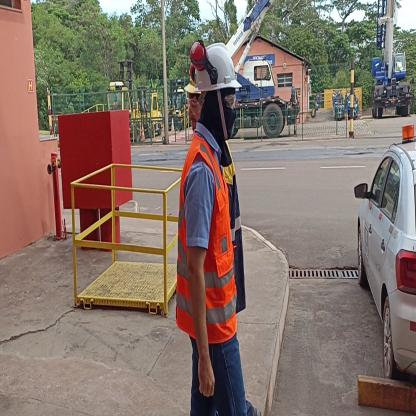Balaclava: (200, 90, 240, 142)
Capacete: (192, 43, 242, 94)
colete: (175, 138, 238, 338)
